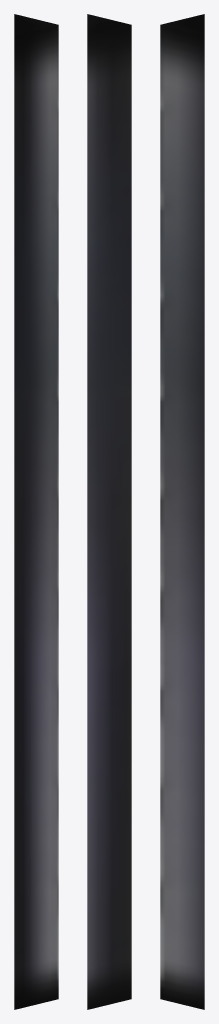
The picture shows the model from 3 angles, left to right: view 1: azimuth 90°, elevation 25°; view 2: azimuth 210°, elevation 25°; view 3: azimuth 270°, elevation 25°; orthographic projection.
Parts seen in each view (by area): view 1: Cylinder19; view 2: Cylinder19; view 3: Cylinder19.
Boxes of the visible parts, box(x1,y1,x2,y2) form: Cylinder19: box(14, 14, 58, 1009); Cylinder19: box(87, 14, 131, 1009); Cylinder19: box(160, 14, 204, 1009).
Size of the model in its own units: 16.56 by 349 by 14.34.
Materials: 1 (1 with a texture image).
